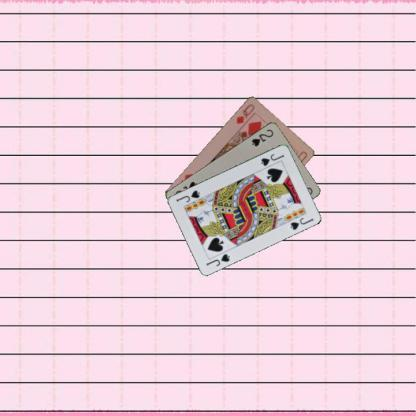2s: (249, 126, 274, 148)
Js: (258, 151, 286, 167), (203, 251, 231, 267)
Qd: (233, 101, 256, 125)
